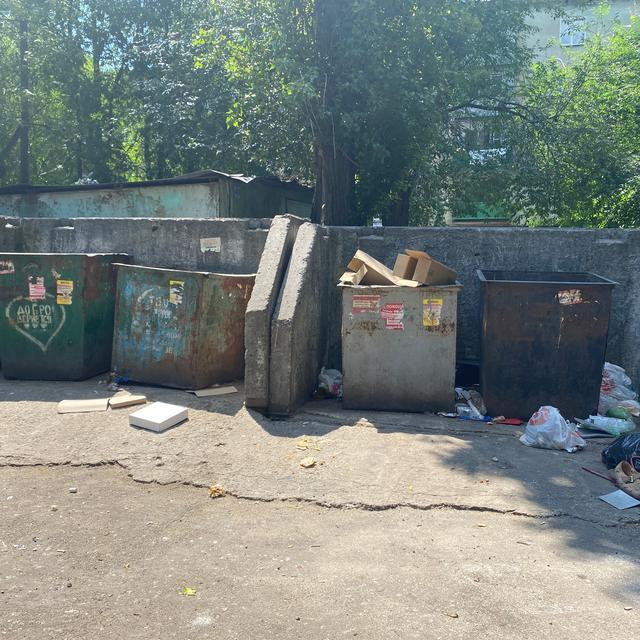Trash_Can_Empty: (476, 270, 612, 417), (111, 265, 254, 389), (0, 252, 127, 380)
Trash_Can_Full: (337, 249, 459, 412)
